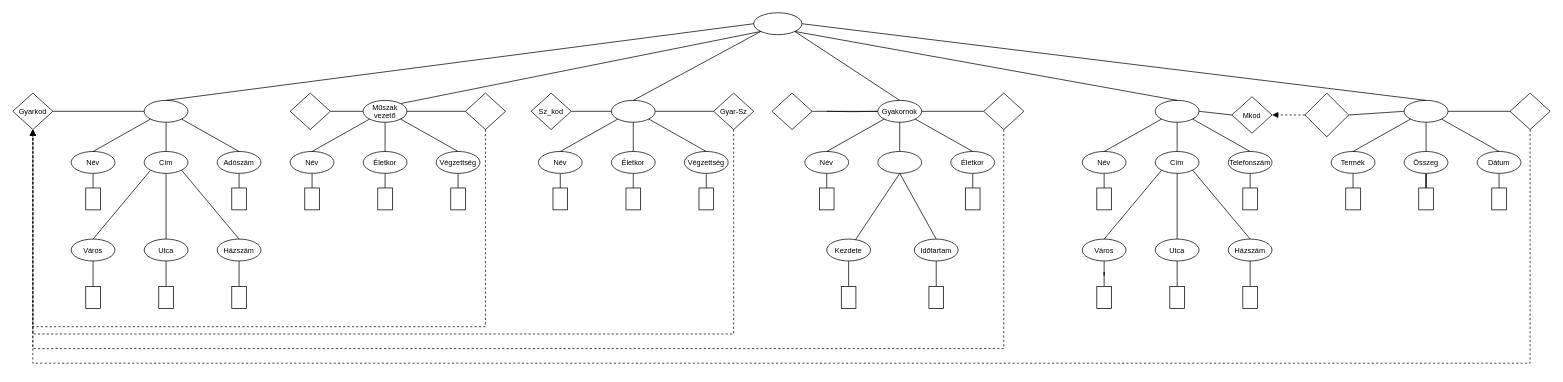
The diagram is 1563 pixels wide and 382 high, and some of its shapes have lost their labels. Here are the shapes that lost their labels. From the top down, the centre of each, then its label:
At point (777, 23): "Ipar".
At point (165, 111): "Gyár".
At point (309, 111): "M_kod".
At point (485, 111): "Gyar-M".
At point (633, 111): "Szakmunkás".
At point (791, 111): "Gy_kod".
At point (1003, 111): "Gyar-Gy".
At point (1176, 111): "Megrendelő".
At point (1326, 114): "Gyar_M_R".
At point (1425, 111): "Rendelés".
At point (1529, 111): "Rkod".
At point (899, 162): "Gyakorlat".
